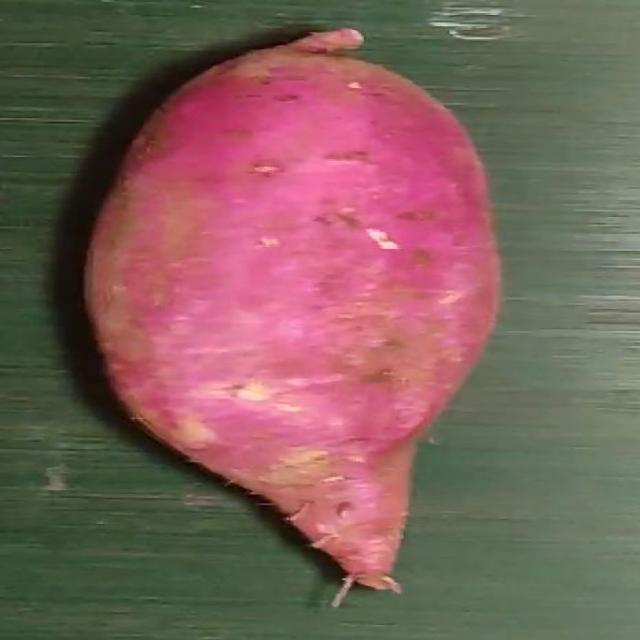Sweet Potato: (82, 31, 501, 606)
